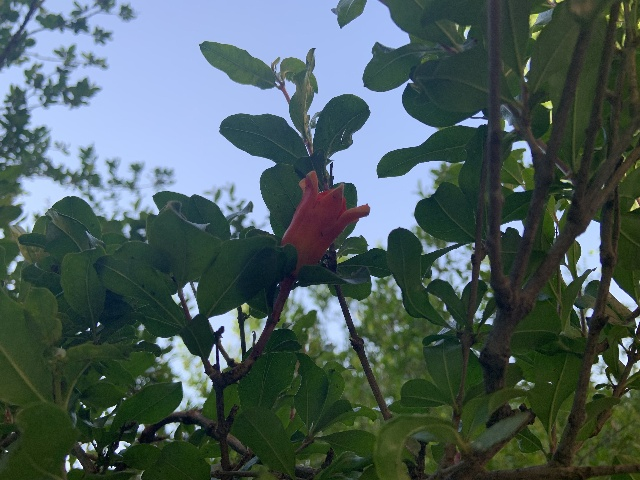flower: (280, 170, 369, 278)
